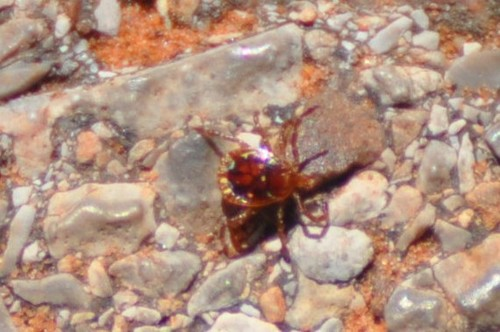Amblyomma americanum: (86, 294, 115, 324)
